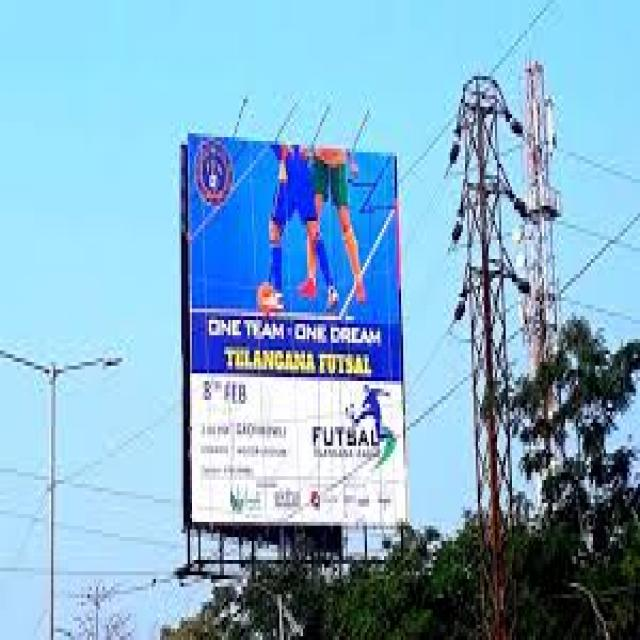Werbetafel frei: (181, 134, 403, 562)
